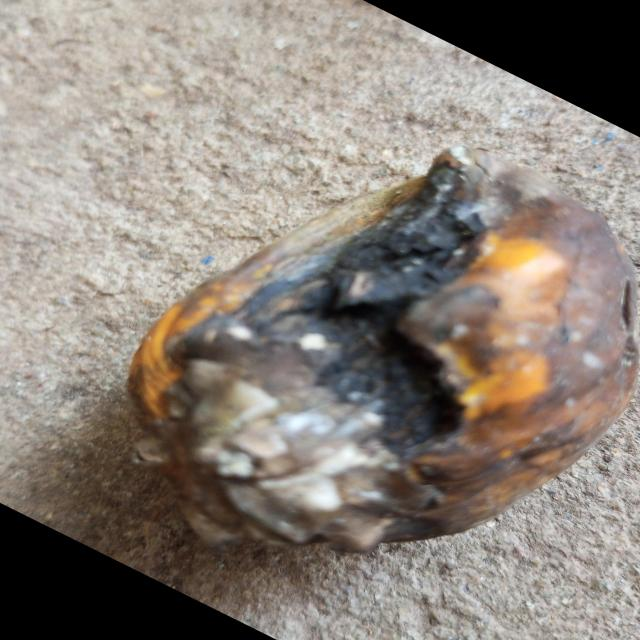damaged: (125, 150, 640, 559)
